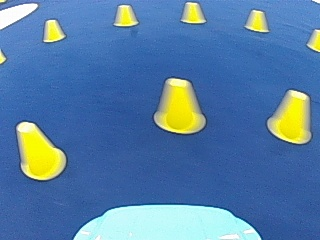cone: (14, 121, 64, 180), (154, 77, 205, 134), (267, 89, 312, 144), (113, 4, 138, 27), (42, 18, 65, 42), (244, 9, 268, 32), (180, 2, 205, 24), (306, 28, 319, 51)
